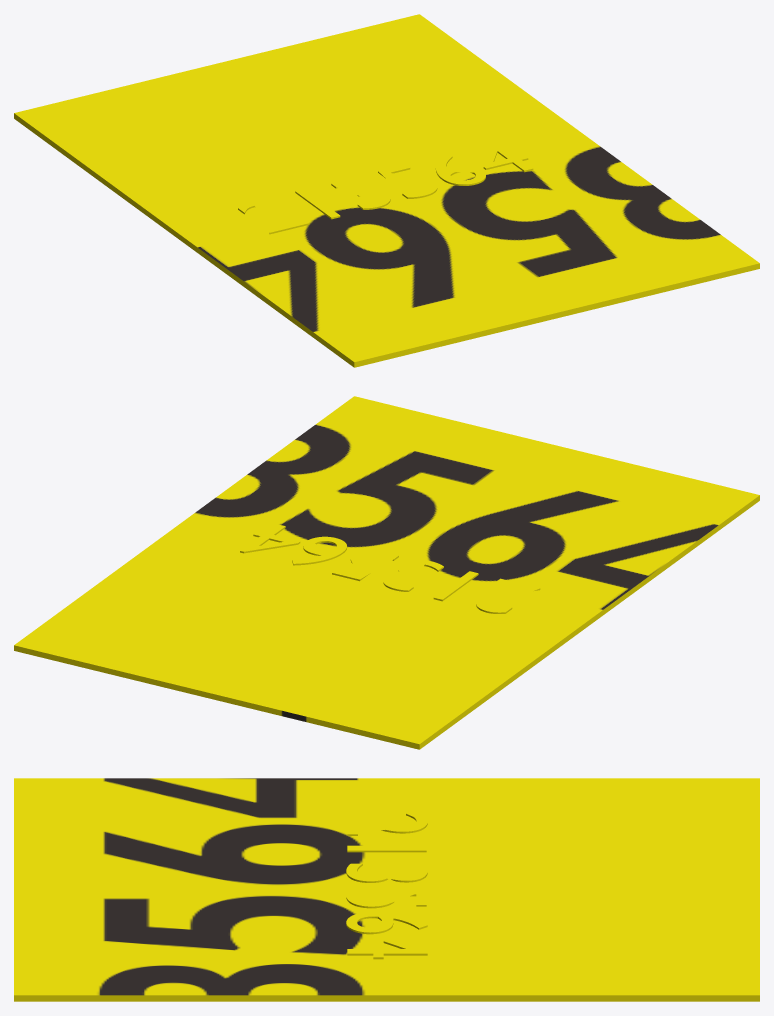
The model's file is Note.fbx.
3 views of the same model, one above another, from view 1: azimuth 30°, elevation 25°; view 2: azimuth 150°, elevation 25°; view 3: azimuth 270°, elevation 25° (orthographic). The views are drawn at different scales.
Parts seen in each view (by area): view 1: Plane; view 2: Plane; view 3: Plane.
Boxes of the visible parts, x1,y1,x2,y2 form: Plane: (14, 14, 759, 367); Plane: (14, 396, 759, 749); Plane: (14, 778, 759, 1001).
Size of the model in its own units: 130 by 2.2 by 189.
